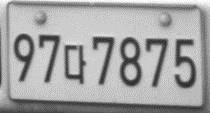5: (173, 38, 197, 88)
7: (92, 35, 115, 85), (145, 38, 168, 87), (38, 34, 61, 82)
8: (119, 35, 142, 87)
9: (12, 32, 34, 82)
다: (64, 44, 87, 84)
